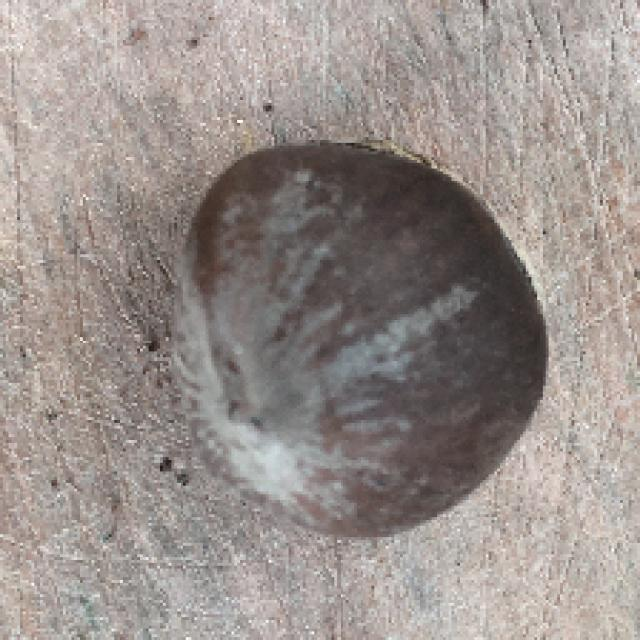damagedHazelnut: (161, 128, 564, 557)
